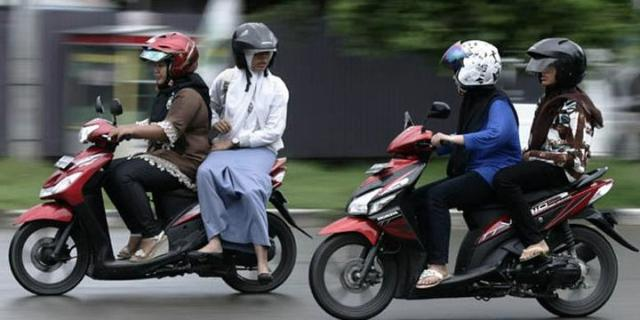helm: (138, 32, 206, 90), (525, 39, 589, 97), (440, 40, 504, 95), (231, 24, 281, 78)
motor: (309, 100, 640, 320), (8, 95, 304, 295)
